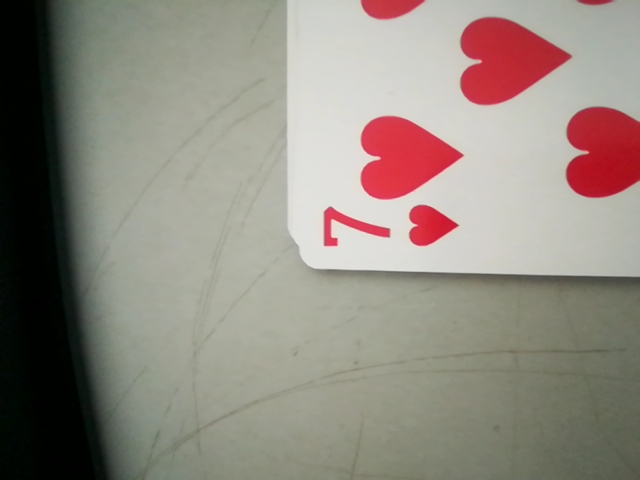hx 7: (310, 200, 466, 265)
